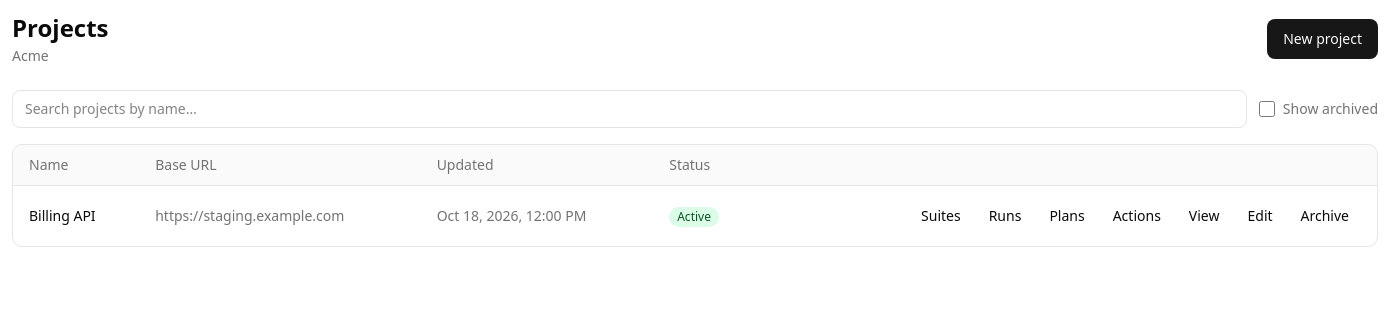
Test case: ProjectsManager › archives a project after confirmation and shows a notice
Check: the text "Billing API" is shown, box top-left (13, 186), bottom-right (139, 246)
Step 1. Click the button "Archive" → [1325, 216], box top-left (1288, 198), bottom-right (1361, 234)
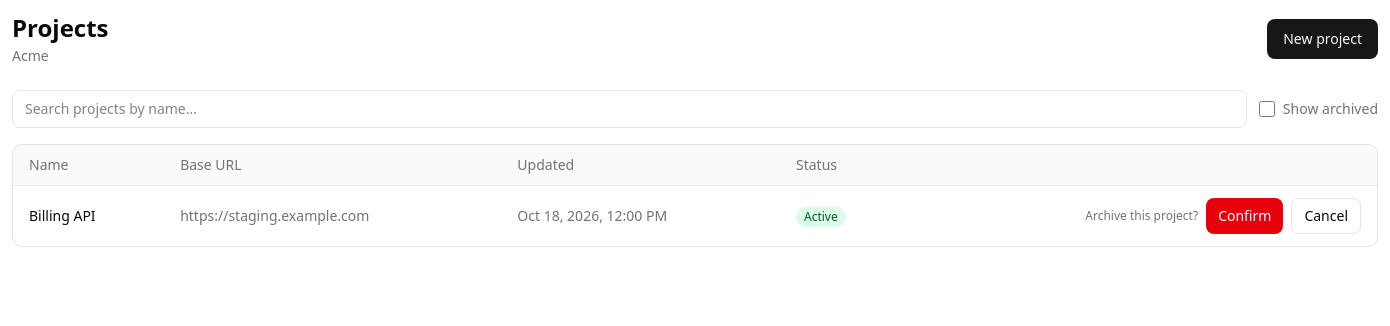
Check: the text "Archive this project?" is shown, box top-left (1085, 208), bottom-right (1198, 224)
Step 2. Click the button "Confirm" → [1245, 216], box top-left (1206, 198), bottom-right (1283, 234)
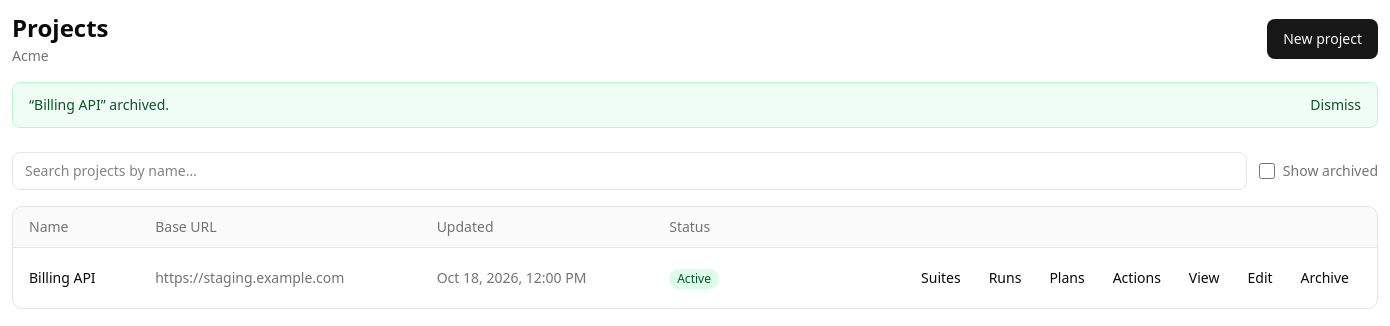
Check: the message shows "archived", box top-left (29, 95), bottom-right (169, 114)
